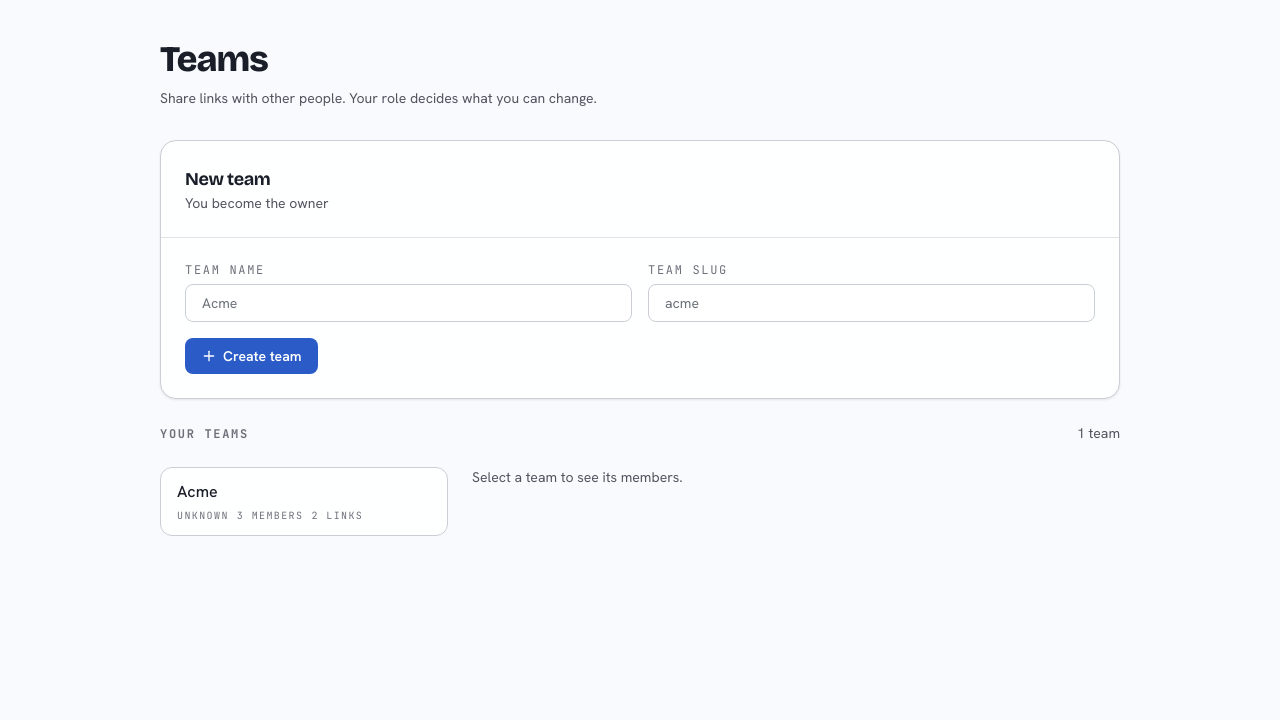
Test: Organizations page › reads the role from the open team when the server omits it
What coordinates should you click on to do the following:
click the button "Acme Unknown 3 members 2 links"
I would click on:
 (197, 492)
Its box is [160,467,448,536].
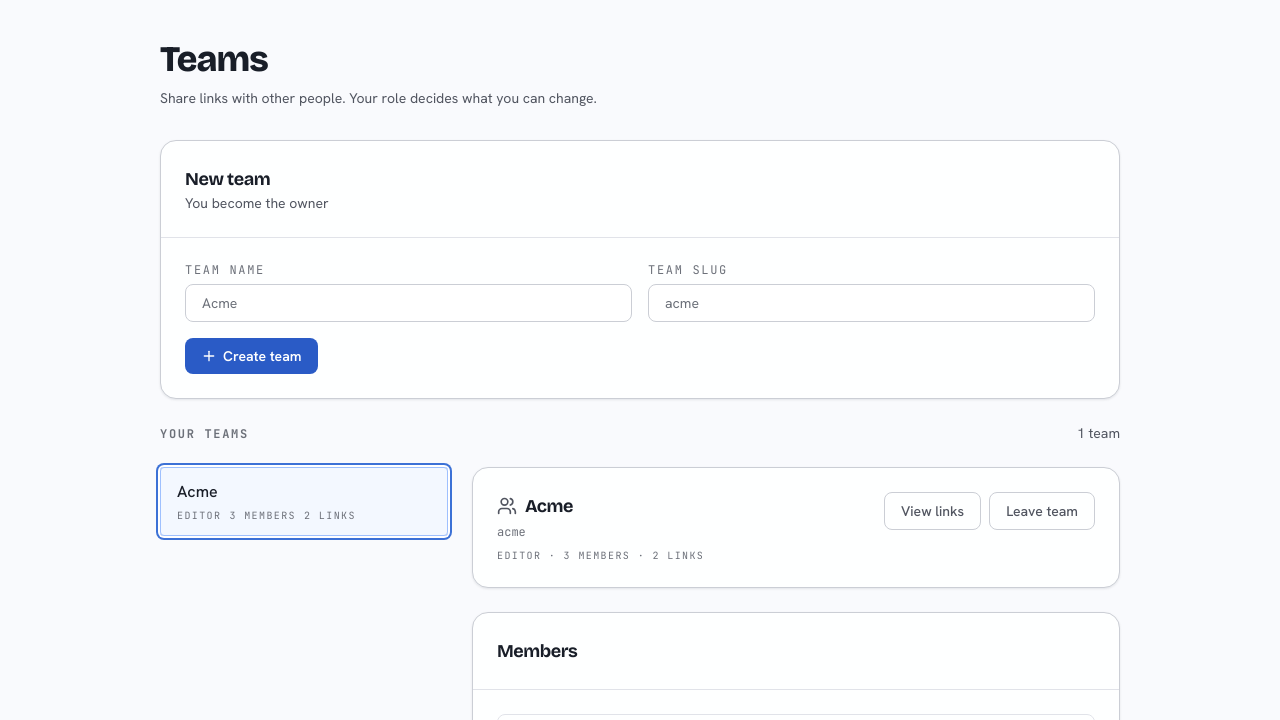
Check: the button "Acme Editor 3 members 2 links" is shown, box [160,467,448,536]
Check: the button "Leave team" is shown, box [989,492,1095,530]
